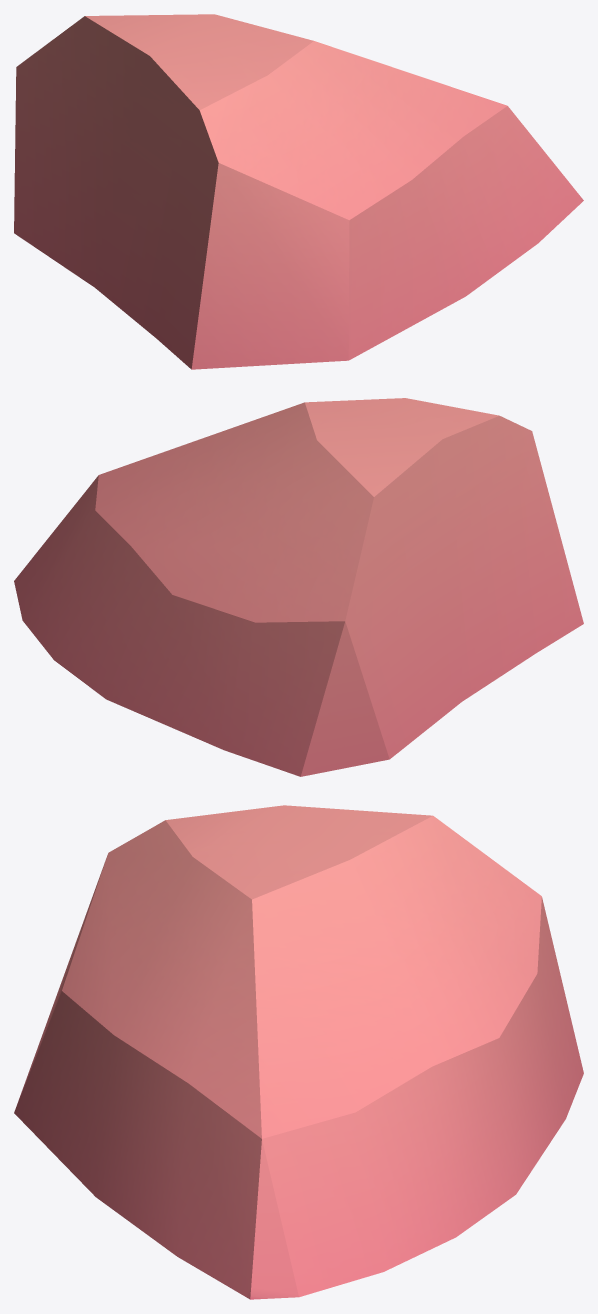
The model's file is Sunset_Stone_005.FBX.
3 views of the same model, one above another, from view 1: azimuth 30°, elevation 25°; view 2: azimuth 150°, elevation 25°; view 3: azimuth 270°, elevation 25° (orthographic). The views are drawn at different scales.
Visible parts, largest first — view 1: Sunset_Stone_005; view 2: Sunset_Stone_005; view 3: Sunset_Stone_005.
Part boxes in pixels (x1,y1,x2,y2): Sunset_Stone_005: (14,14,583,369); Sunset_Stone_005: (14,398,583,776); Sunset_Stone_005: (14,805,583,1299).
Bounding box in the file's own units: 167 × 80.67 × 157.
Materials: 1 (1 with a texture image).
